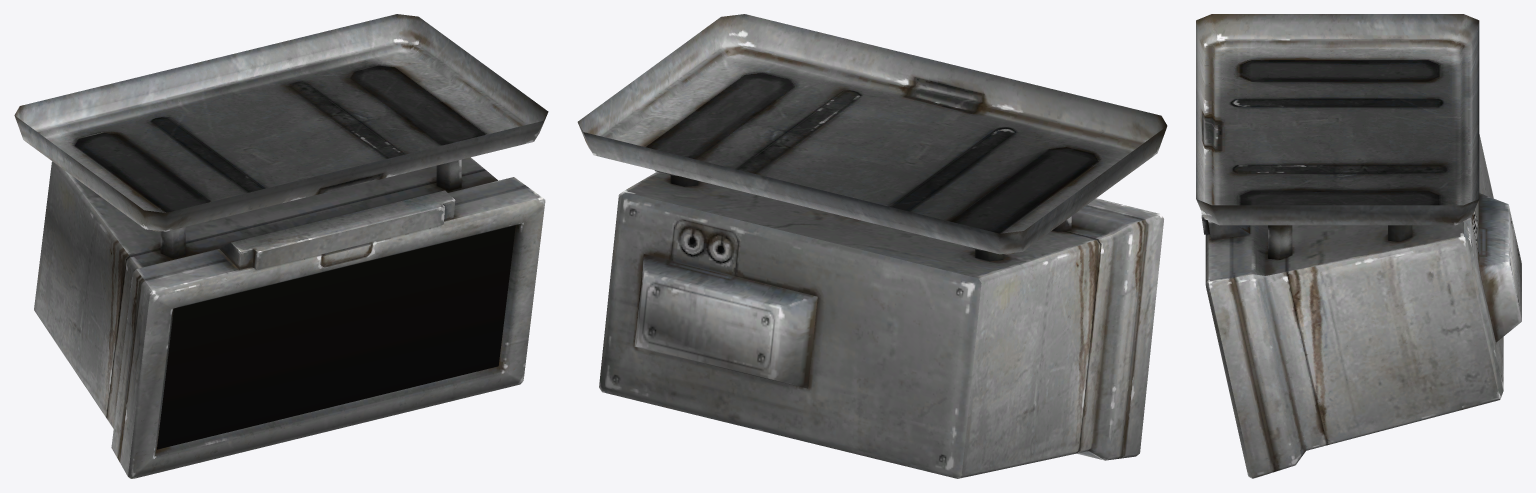
The model's file is ark_testing_equipment_01.DAE.
The picture shows the model from 3 angles, left to right: view 1: azimuth 30°, elevation 25°; view 2: azimuth 150°, elevation 25°; view 3: azimuth 270°, elevation 25°; orthographic projection. The views are drawn at different scales.
Parts seen in each view (by area): view 1: ark_testing_equipment_01, ark_testing_equipment_01_monitor; view 2: ark_testing_equipment_01; view 3: ark_testing_equipment_01.
Part boxes in pixels (x1,y1,x2,y2): ark_testing_equipment_01: (14,14,548,478); ark_testing_equipment_01_monitor: (157,225,515,449); ark_testing_equipment_01: (577,14,1167,478); ark_testing_equipment_01: (1196,14,1521,478).
Bounding box in the file's own units: 0.6114 × 0.44 × 0.4131.
